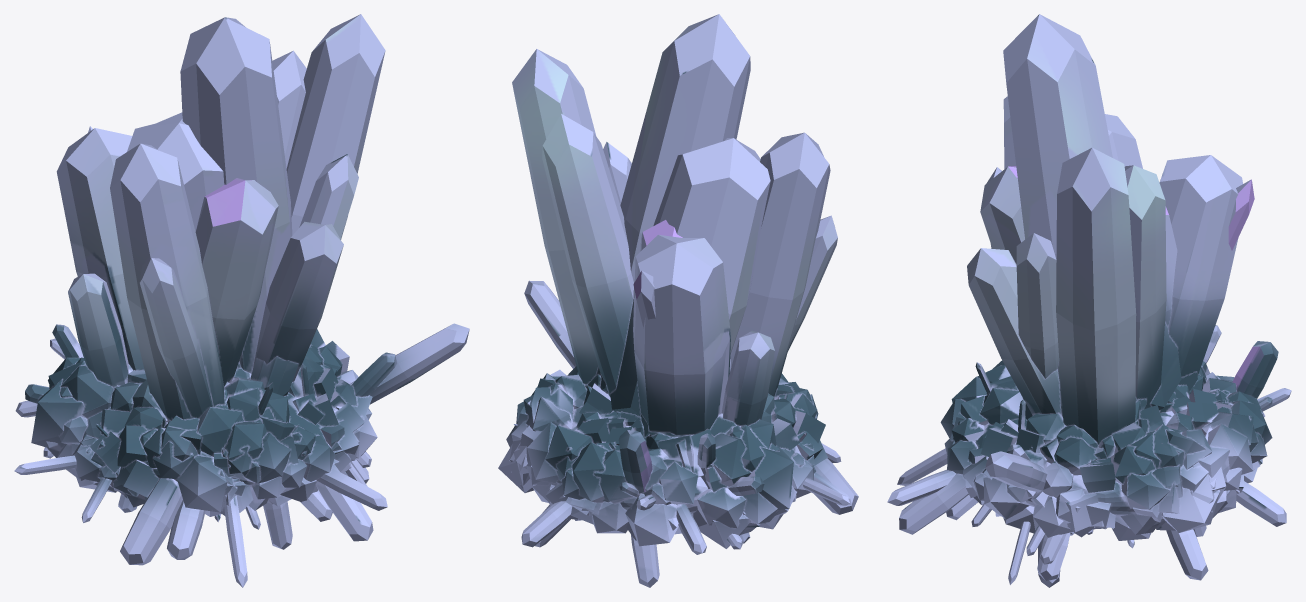
Rendered from iceenv.fbx.
3 views of the same model, side by side, from view 1: azimuth 30°, elevation 25°; view 2: azimuth 150°, elevation 25°; view 3: azimuth 270°, elevation 25° (orthographic). The views are drawn at different scales.
Parts seen in each view (by area): view 1: Crystal Ice; view 2: Crystal Ice; view 3: Crystal Ice.
Part boxes in pixels (left/top/right/bottom): Crystal Ice: left=14, top=14, right=469, bottom=587; Crystal Ice: left=498, top=14, right=858, bottom=587; Crystal Ice: left=887, top=14, right=1291, bottom=587.
Size of the model in its own units: 209 by 279 by 188.
1 material, 1 textured.
